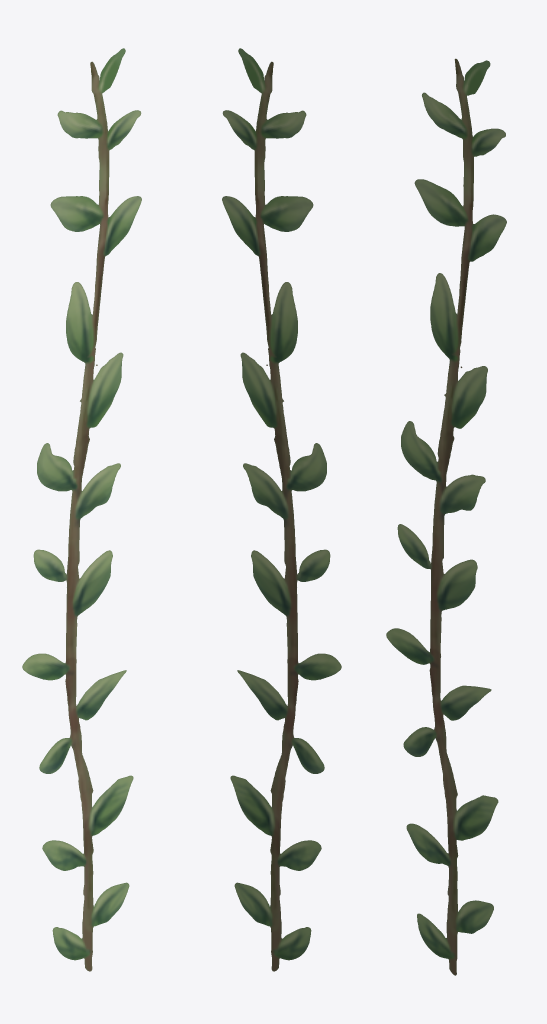
Rendered from BgMD_vine01_02.fbx.
The picture shows the model from 3 angles, left to right: view 1: azimuth 30°, elevation 25°; view 2: azimuth 150°, elevation 25°; view 3: azimuth 330°, elevation 25°; orthographic projection.
Visible parts, largest first — view 1: BgMD_vine01_02; view 2: BgMD_vine01_02; view 3: BgMD_vine01_02.
Part boxes in pixels (x1,y1,x2,y2): BgMD_vine01_02: (22,48,141,971); BgMD_vine01_02: (222,48,341,971); BgMD_vine01_02: (386,58,506,975).
Size of the model in its own units: 5.58 by 33.64 by 9.59e-14.
